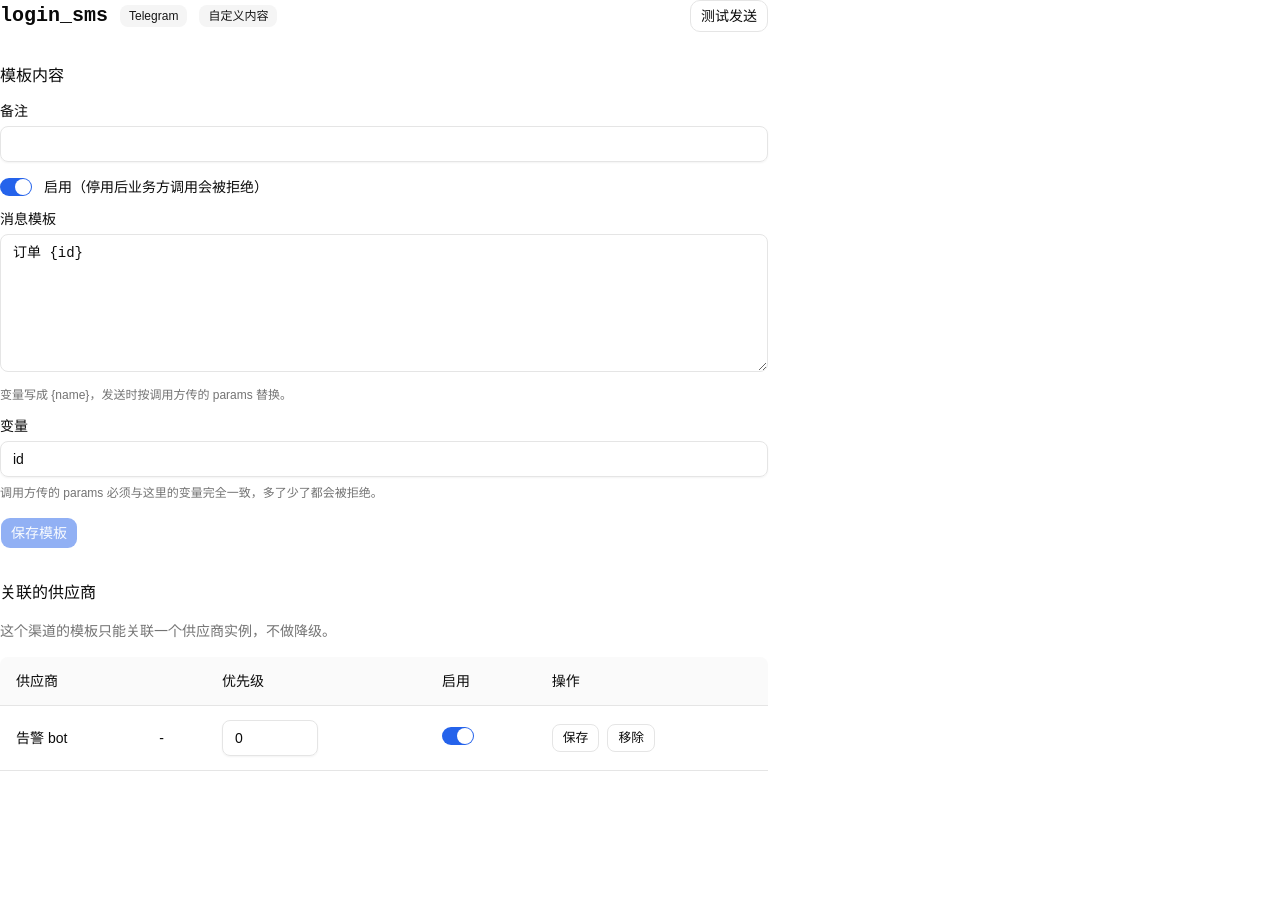
it: telegram 模板：已关联一个供应商后隐藏添加入口，测试发送没有收件人
Check: the number field named "告警 bot 的优先级" is shown, box [222,720,318,756]
Click the button "测试发送" at {"x": 729, "y": 16}, box [690,0,768,32]
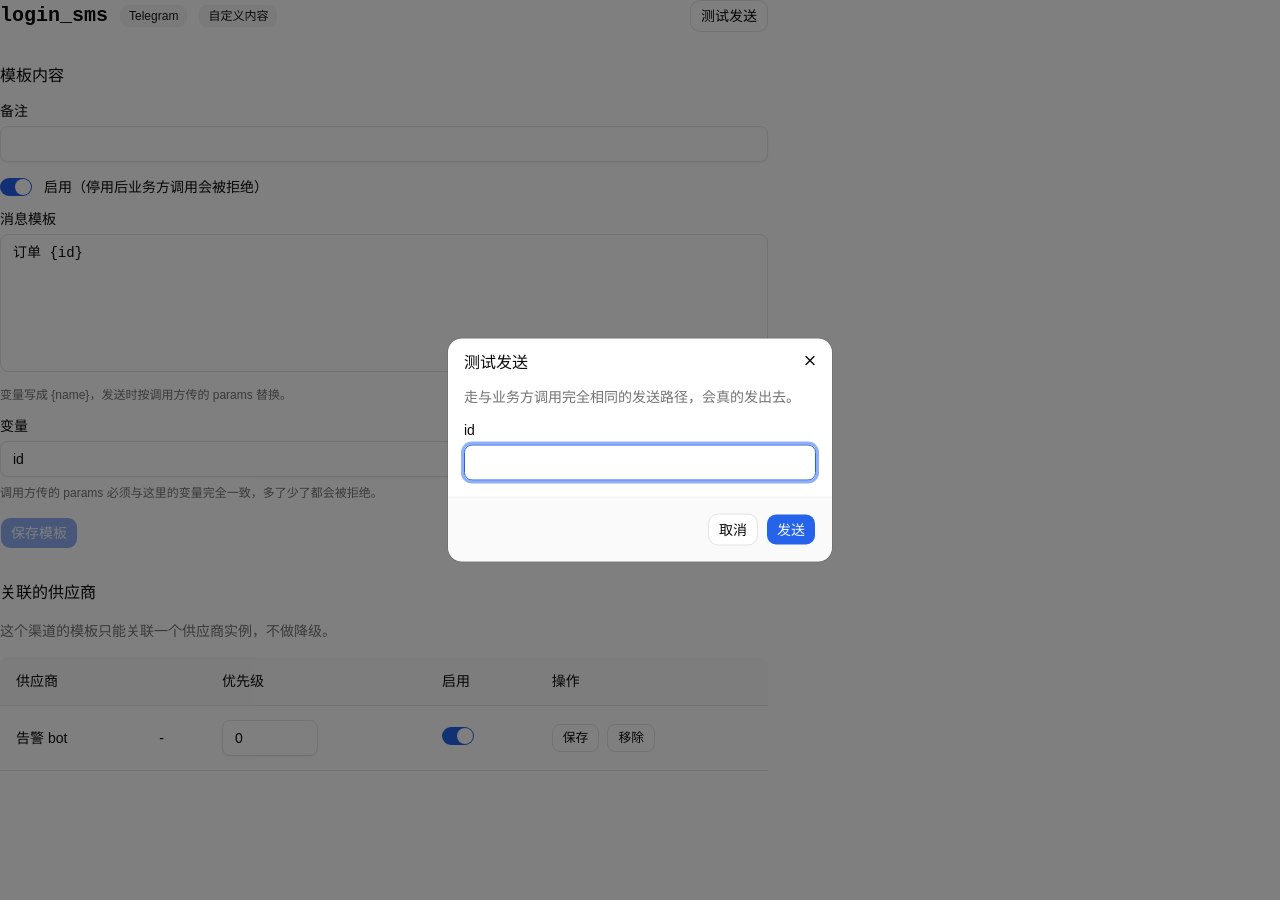
Check: the field labelled "id" is shown, box [464,444,816,480]
